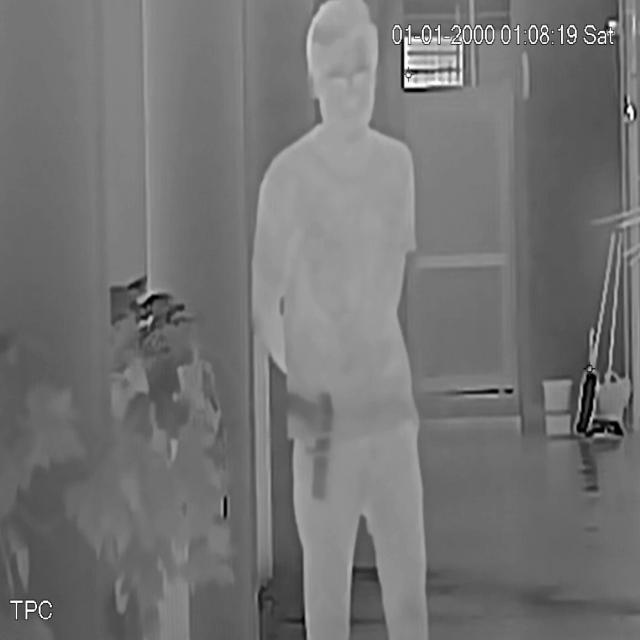Weapon: (278, 386, 345, 515)
